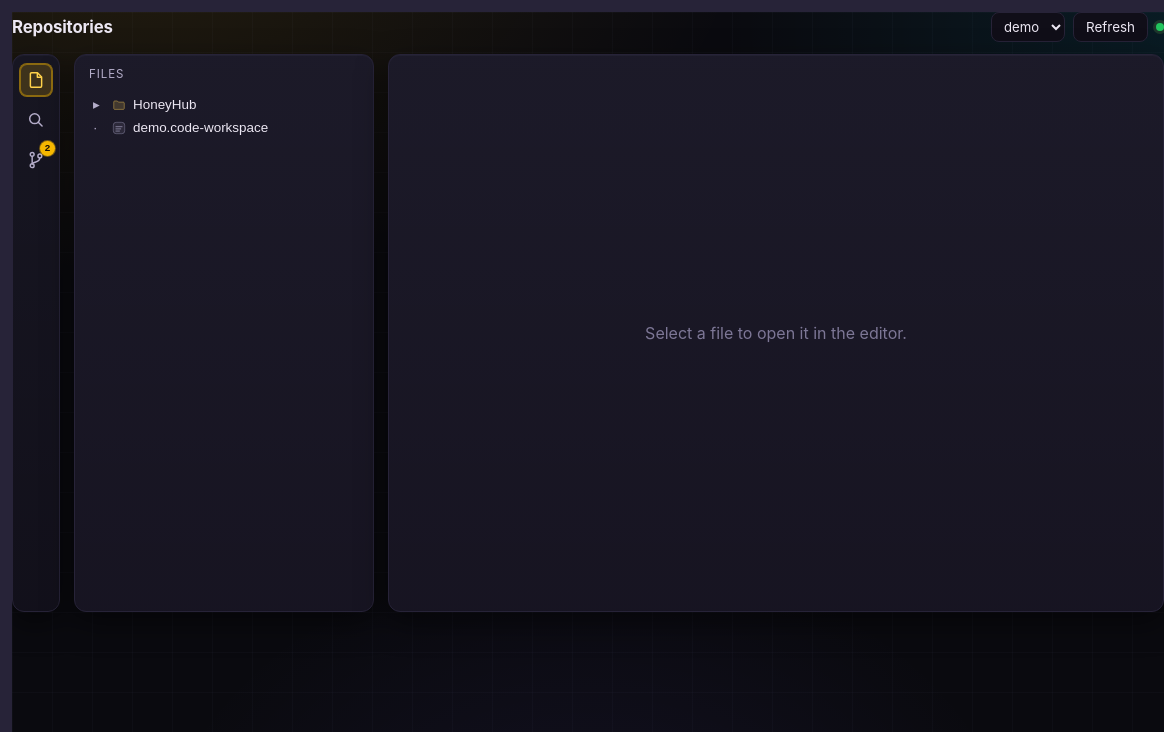
Test: RepositoriesView › tolerates a diff read that rejects
The image size is (1164, 732).
Click the button named "Source control" at (36, 160), box [19, 143, 53, 177]
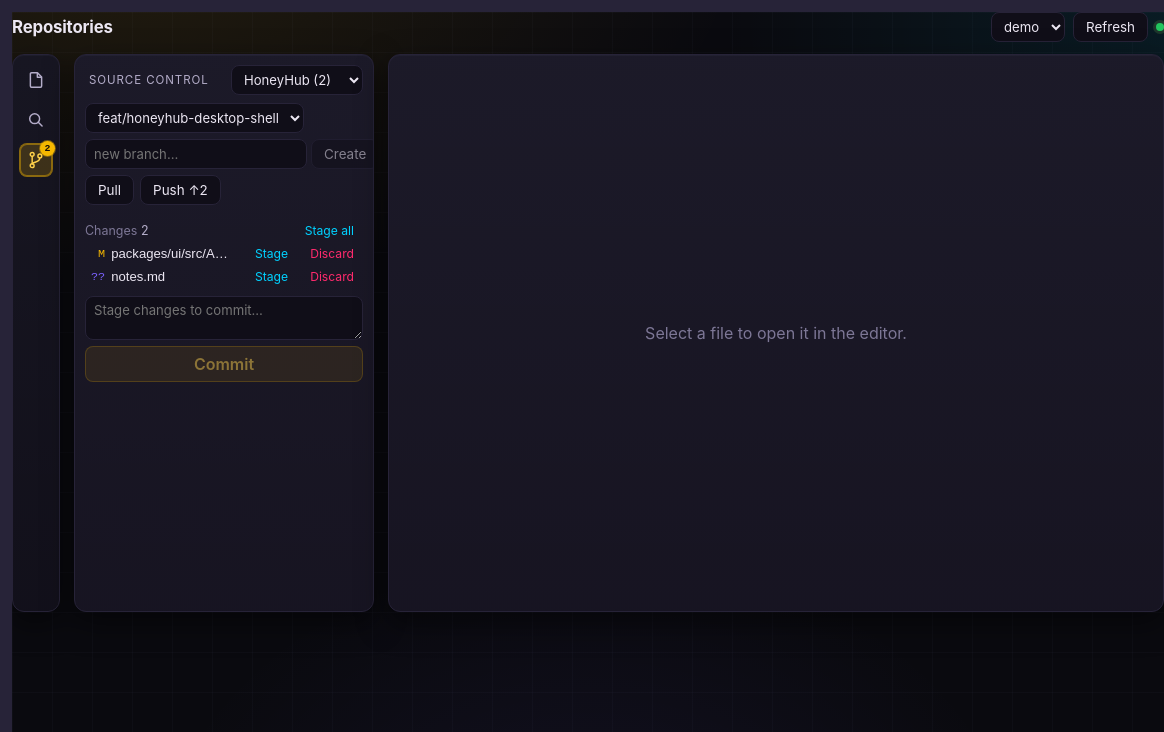
Click the text "packages/ui/src/App.tsx" at (173, 254), box [111, 246, 234, 261]
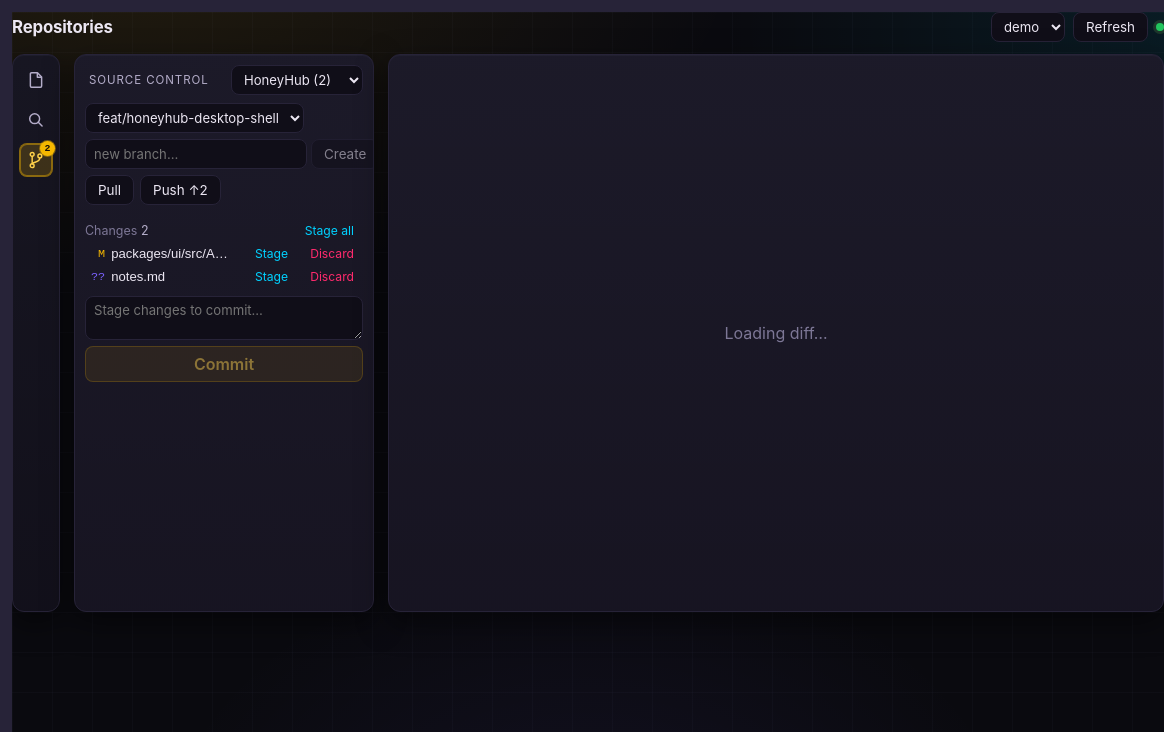
Expected: the text "Loading diff…" is shown, [724, 323, 828, 343]
